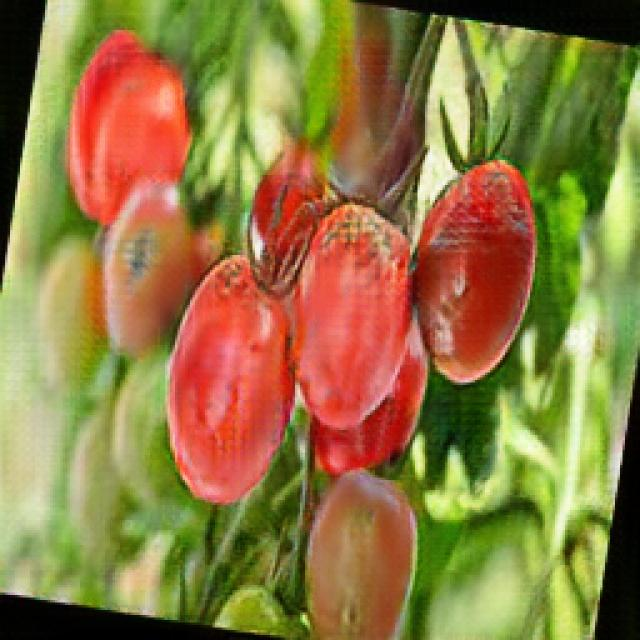overripe tomato: (165, 254, 290, 506), (412, 159, 537, 383), (290, 200, 412, 428), (302, 465, 420, 640)
